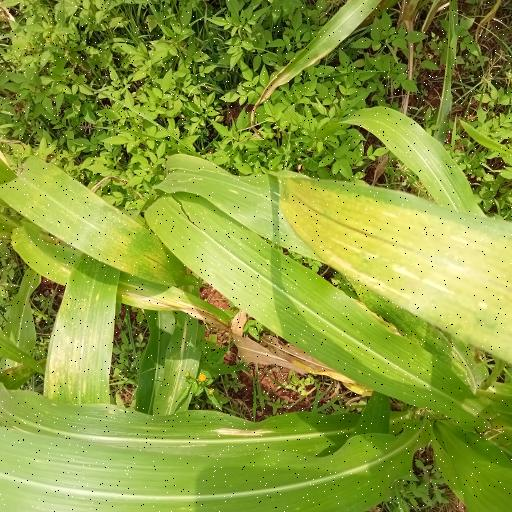Corn_Brown_Spots: (261, 152, 512, 398), (0, 148, 207, 407)
